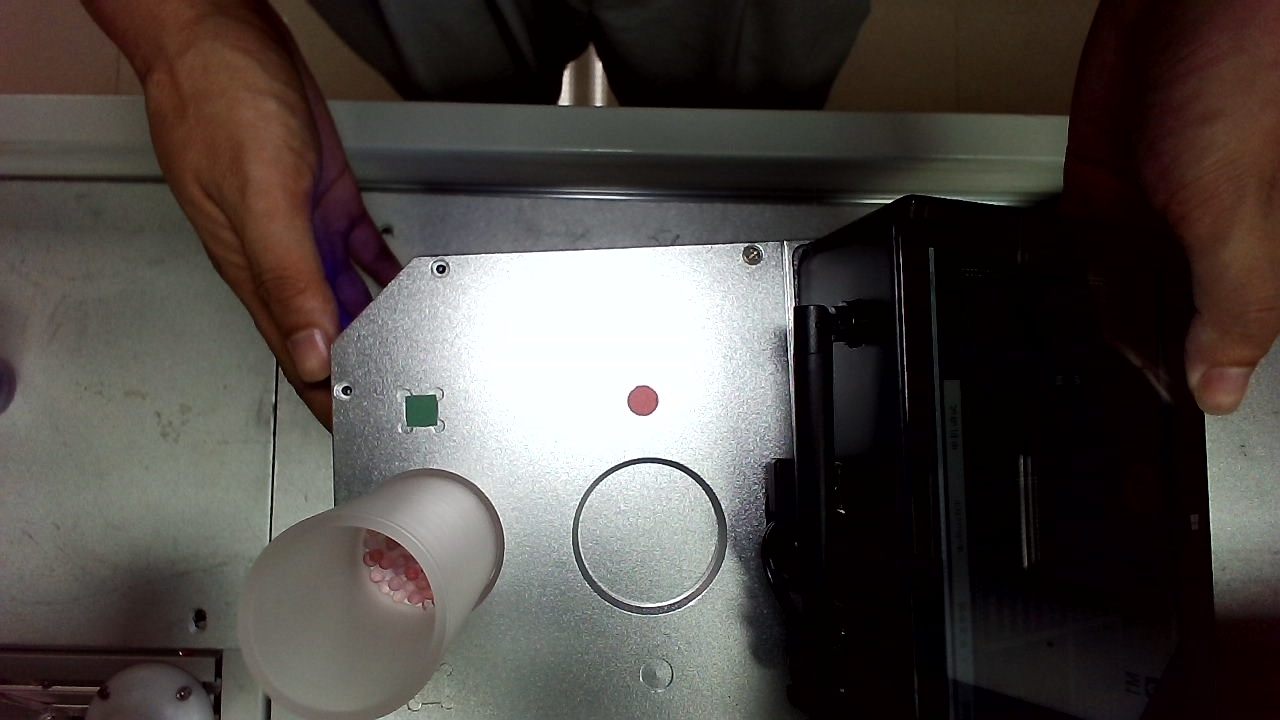bad: (790, 170, 837, 215), (649, 545, 695, 590), (295, 143, 342, 187), (469, 171, 514, 214), (793, 1, 830, 50), (625, 277, 669, 318), (272, 29, 313, 70), (706, 617, 747, 658), (845, 496, 886, 536), (359, 101, 395, 142), (538, 611, 574, 652), (814, 229, 852, 266), (820, 56, 854, 97), (409, 239, 451, 272), (750, 323, 787, 360), (832, 374, 871, 409), (605, 478, 642, 513), (282, 1, 319, 35), (329, 118, 365, 152), (643, 513, 676, 549), (814, 421, 848, 454)
defact: (669, 167, 708, 202)
pass: (566, 357, 613, 402), (295, 636, 335, 679), (530, 567, 569, 611), (643, 587, 686, 626), (847, 410, 882, 456), (465, 489, 502, 532), (835, 95, 872, 137), (446, 597, 481, 641), (542, 307, 580, 345), (441, 128, 481, 164), (534, 22, 569, 62), (788, 315, 825, 352), (667, 623, 703, 660), (686, 574, 715, 619), (783, 219, 818, 255), (590, 43, 625, 77)
toolong: (740, 423, 808, 472), (755, 362, 811, 414), (418, 85, 456, 142)
unpass: (832, 3, 874, 59), (267, 428, 313, 473), (792, 351, 837, 395), (481, 591, 522, 637), (370, 316, 410, 358), (343, 1, 385, 40), (624, 32, 662, 74), (748, 634, 786, 676), (808, 462, 845, 502), (401, 284, 439, 322), (332, 40, 369, 79), (673, 244, 710, 283), (490, 17, 526, 57), (513, 338, 548, 378), (573, 4, 608, 43), (619, 335, 654, 374), (817, 496, 853, 533), (345, 137, 382, 173), (574, 413, 610, 450), (842, 209, 876, 248), (799, 388, 835, 424), (607, 562, 641, 599)
